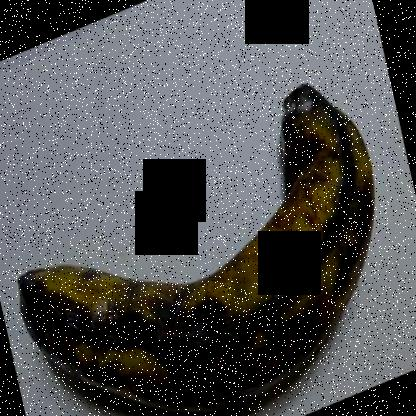overripe: (10, 64, 388, 415)
rotten: (238, 70, 346, 156)
